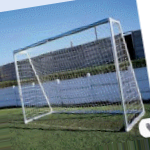goals: (12, 16, 146, 135)
